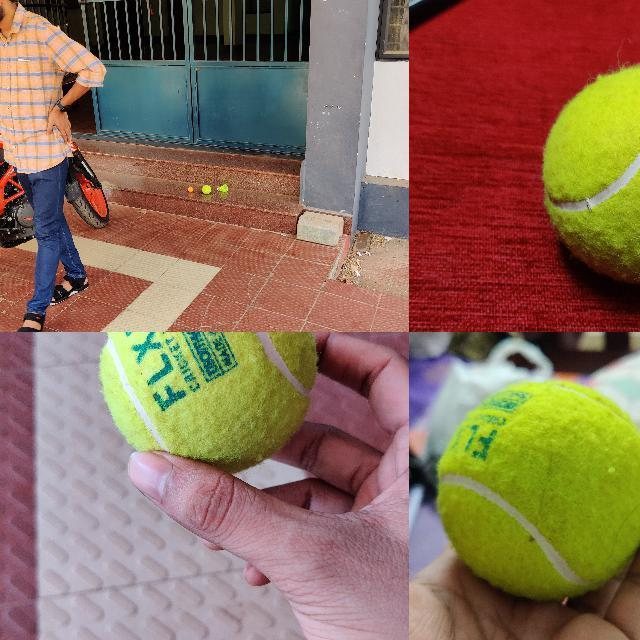tennis-ball: (436, 381, 639, 602), (97, 332, 317, 450), (540, 61, 639, 285), (202, 185, 211, 194)
